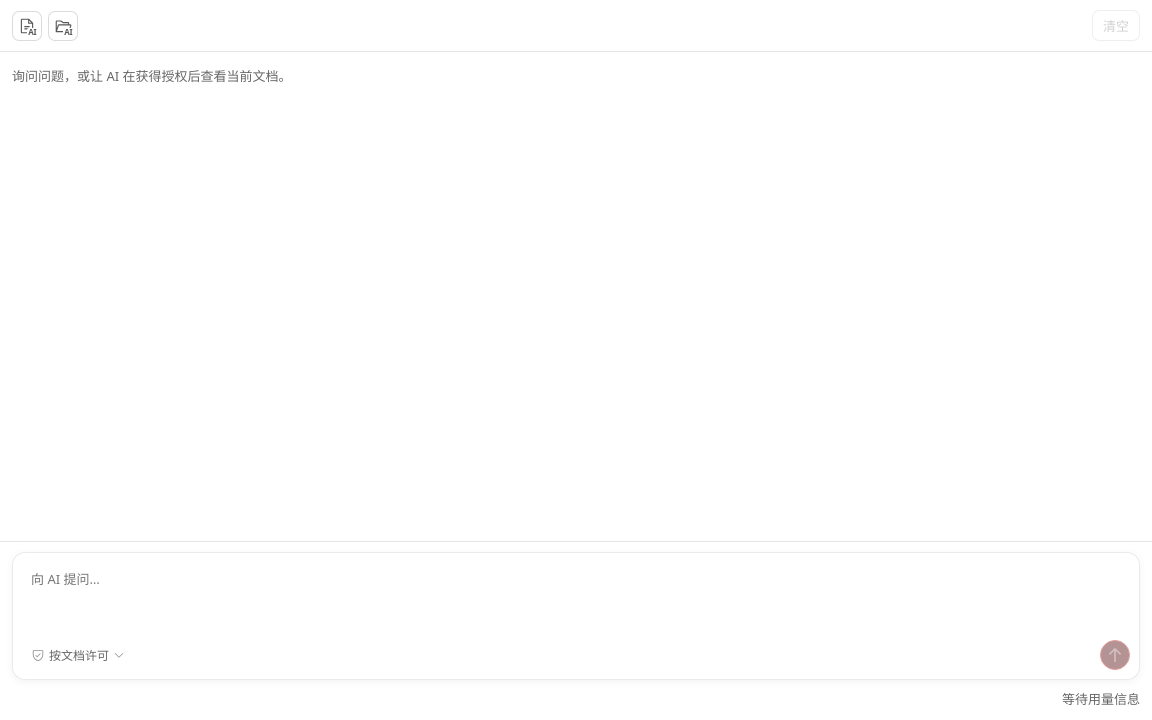
Test case: AiConversationSidebar › dismisses the current write-policy popup on outside
Click the button with aria-label "写入策略：按文档许可" at (78, 655), box [22,640,134,670]
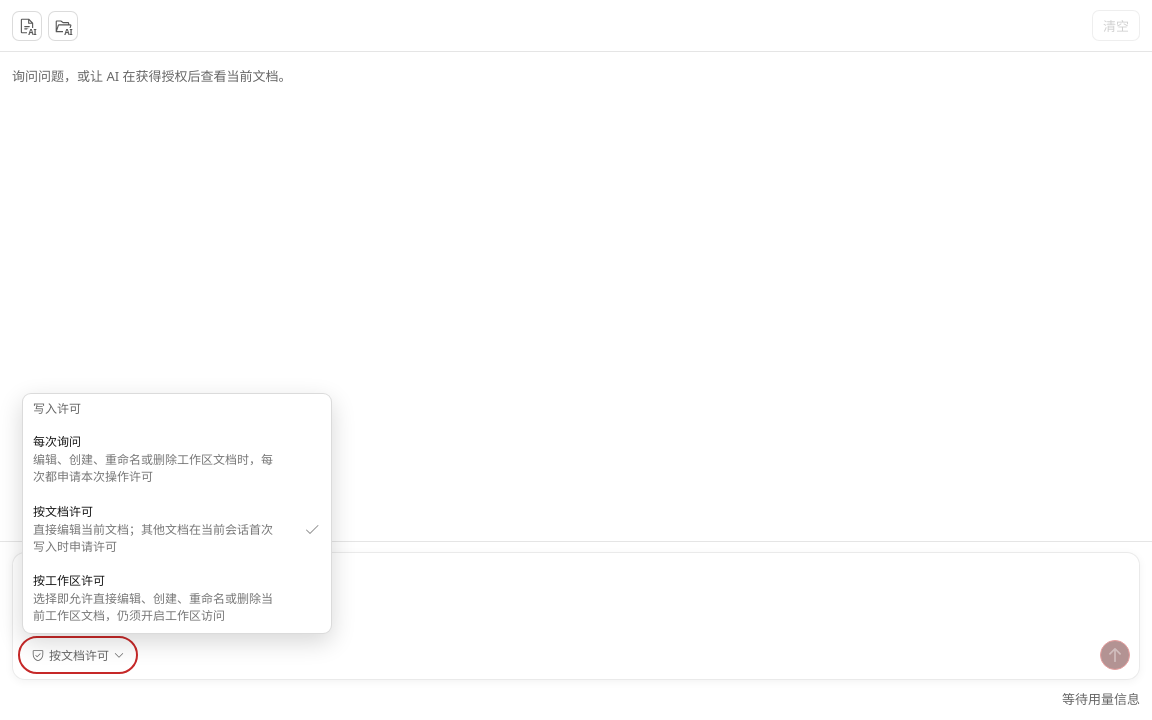
Now the menu is shown, box [22,393,332,634]
Click the element showing "询问问题，或让 AI 在获得授权后查看当前文档。" at (152, 76), box [12,67,292,85]
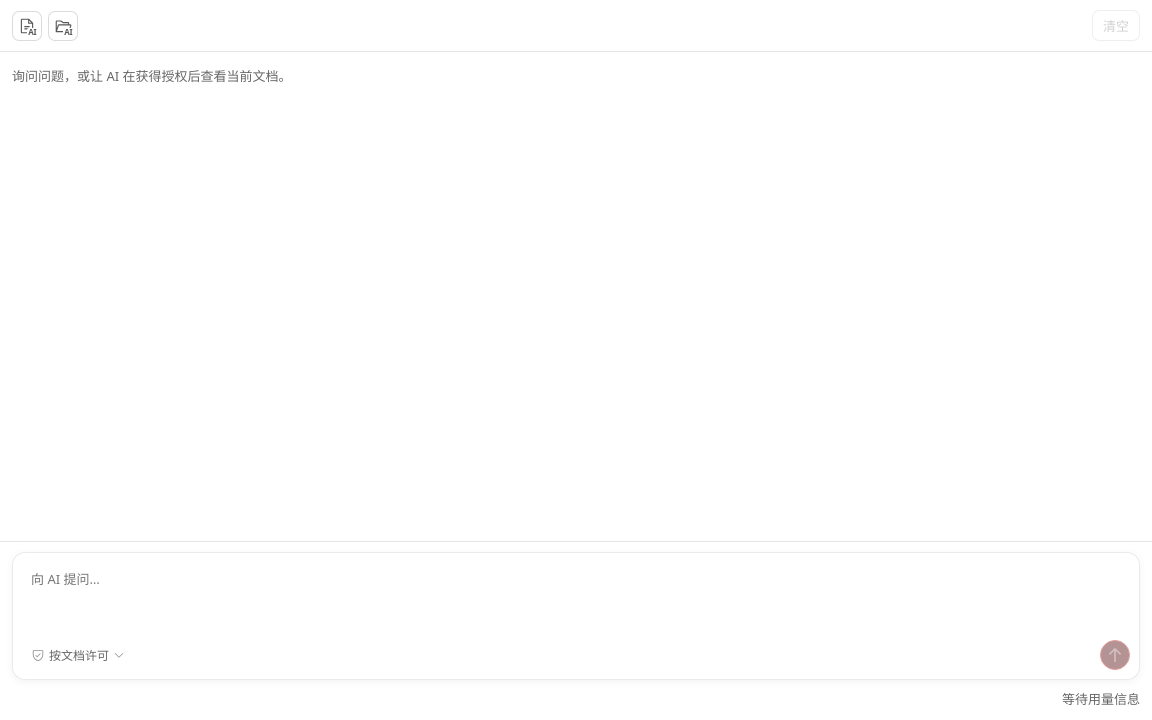
Now the menu is gone
